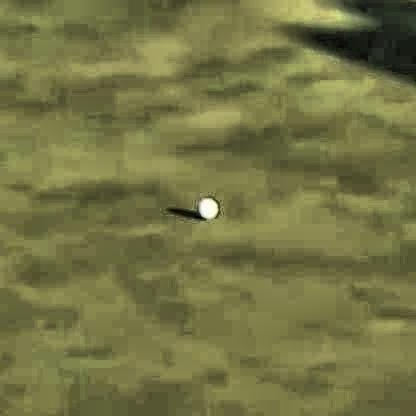golfball: (197, 192, 216, 216)
